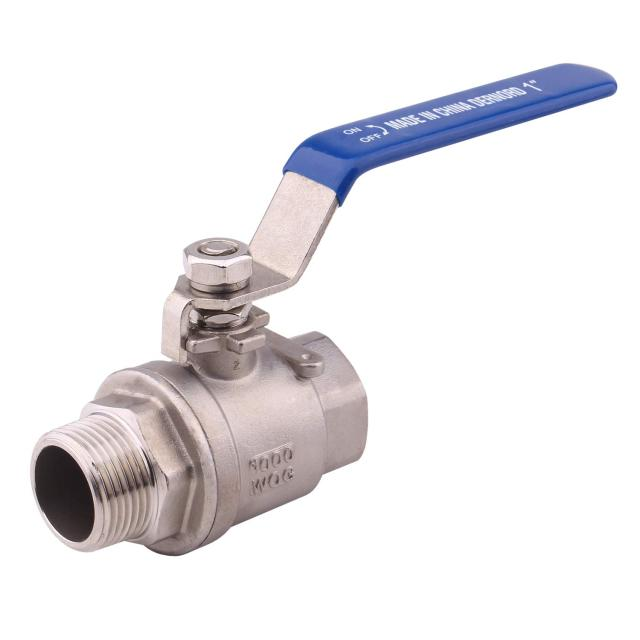Lever Handle Valve Threaded: (20, 51, 640, 386)
